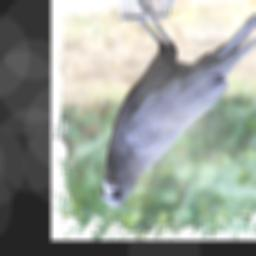Crow: (97, 0, 256, 208)
